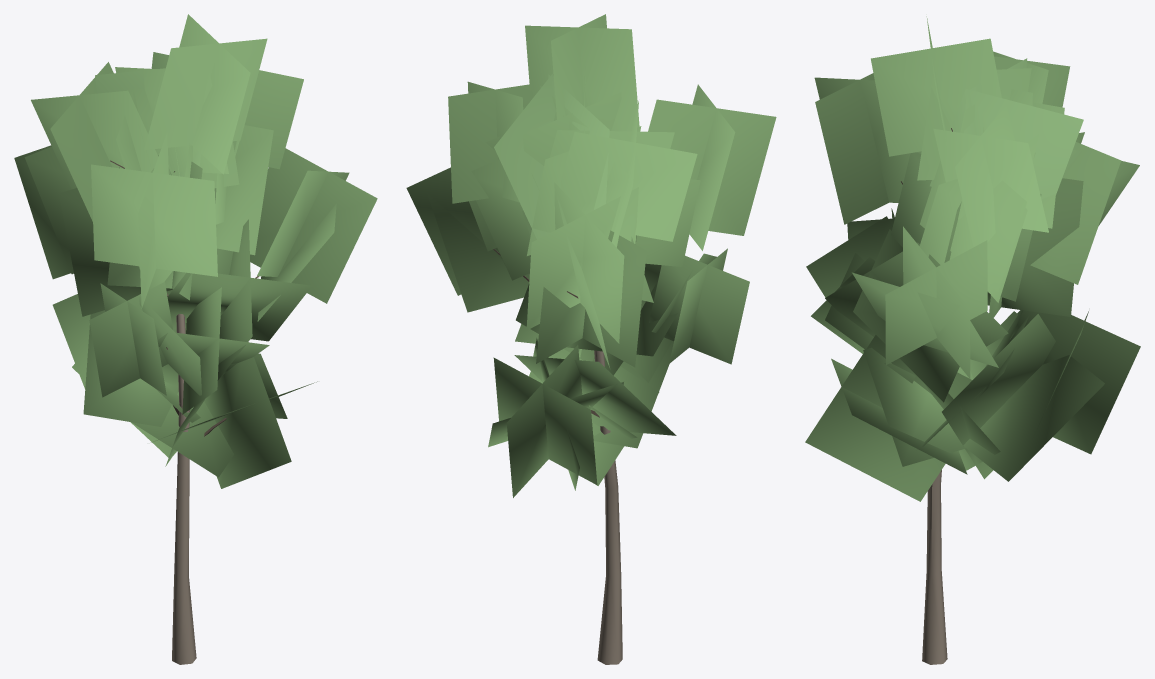
File: tree_birch_b_lod1.glb
3 views of the same model, side by side, from view 1: azimuth 30°, elevation 25°; view 2: azimuth 150°, elevation 25°; view 3: azimuth 270°, elevation 25° (orthographic). The views are drawn at different scales.
Parts seen in each view (by area): view 1: tree_birch_b_lod1; view 2: tree_birch_b_lod1; view 3: tree_birch_b_lod1.
Boxes of the visible parts, x1,y1,x2,y2 form: tree_birch_b_lod1: (14,14,377,664); tree_birch_b_lod1: (406,14,776,664); tree_birch_b_lod1: (805,16,1140,664).
Bounding box in the file's own units: 6.93 × 13.73 × 6.55.
